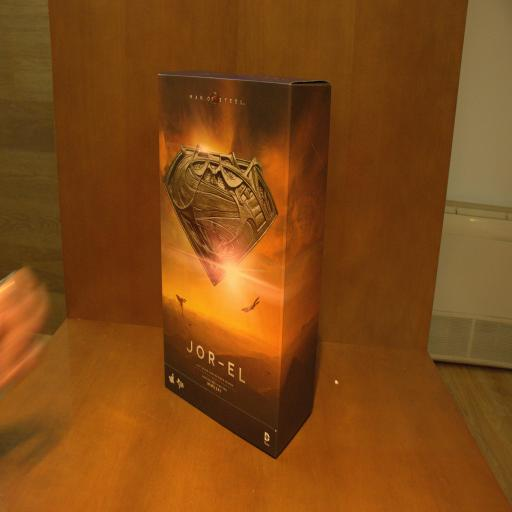superman: (158, 70, 332, 460)
